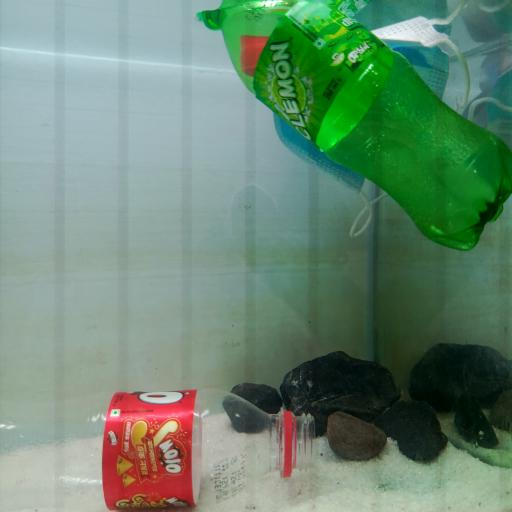bottle_cap: (240, 35, 267, 73)
mask: (269, 0, 512, 231)
plastic_bottle: (210, 0, 512, 254), (0, 388, 312, 511)
